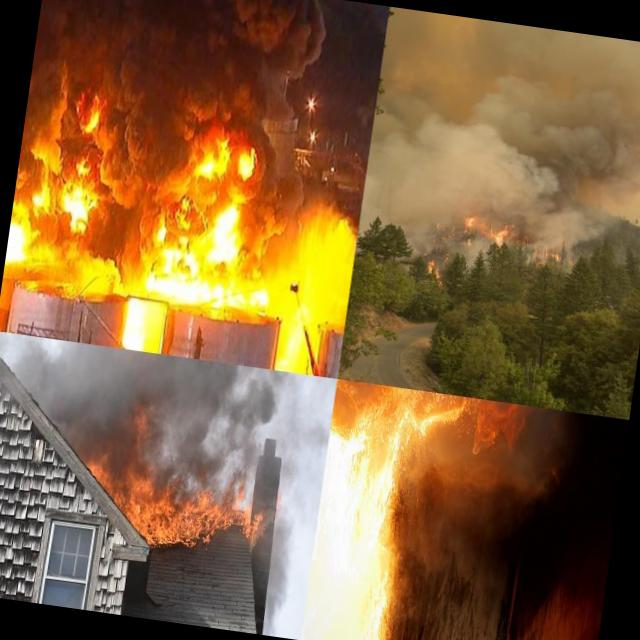fire: (300, 415, 431, 640), (82, 466, 274, 562), (148, 206, 278, 312), (117, 282, 165, 354), (272, 298, 316, 374), (59, 168, 100, 238), (461, 213, 519, 244), (188, 146, 224, 194), (5, 220, 40, 266), (232, 141, 264, 187), (418, 226, 446, 278), (533, 248, 575, 272)
smoke: (361, 7, 640, 250), (85, 346, 338, 497), (105, 0, 342, 153), (19, 0, 97, 167), (2, 334, 100, 446), (246, 505, 308, 639), (0, 331, 16, 395)
